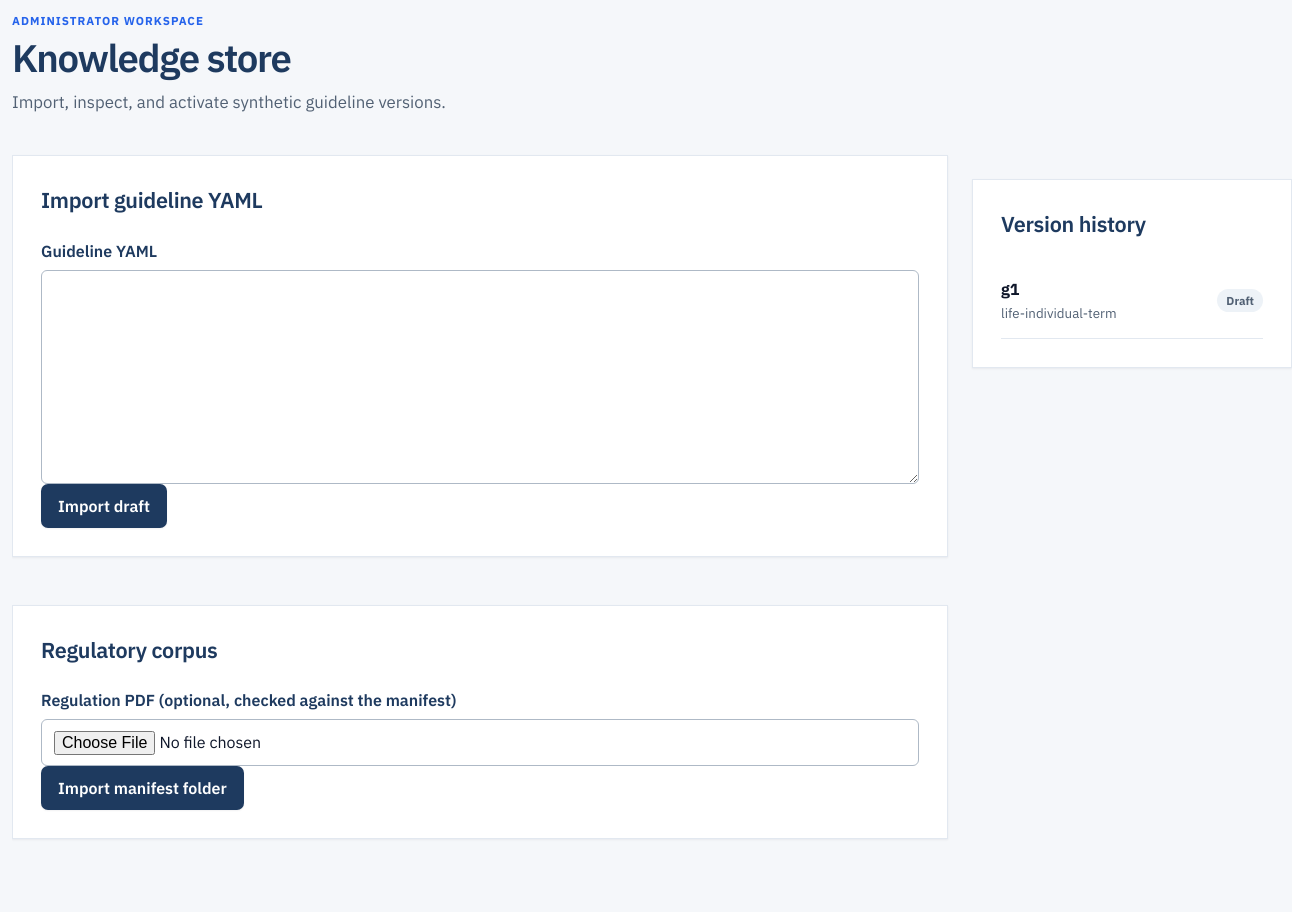
knowledge administration › imports YAML and announces the result
In the text box labelled "Guideline YAML": {"x": 480, "y": 377} [41,270,919,484], type "product_code: life-individual-term"
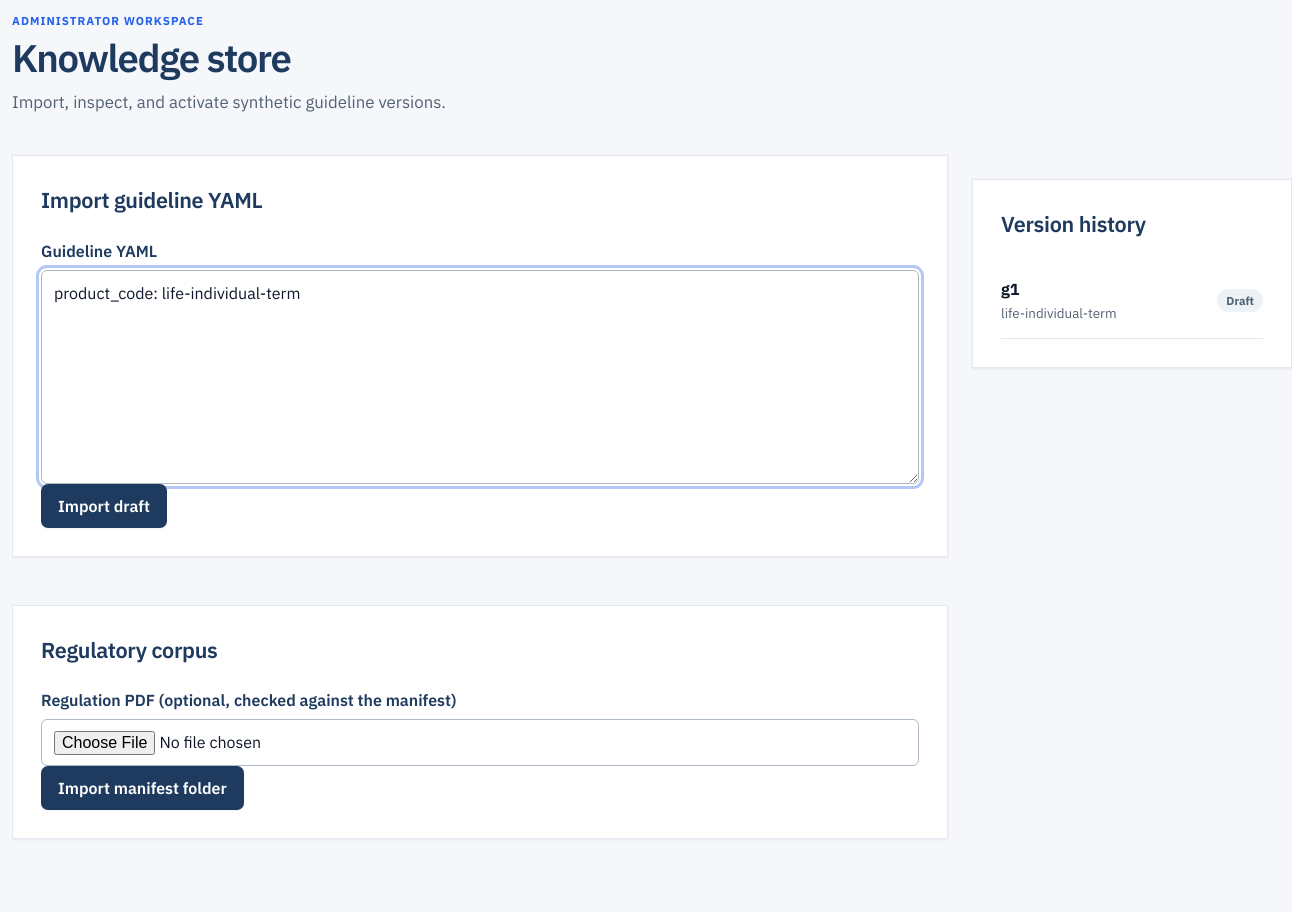
Click the button "Import draft": {"x": 104, "y": 506} [41,484,167,528]
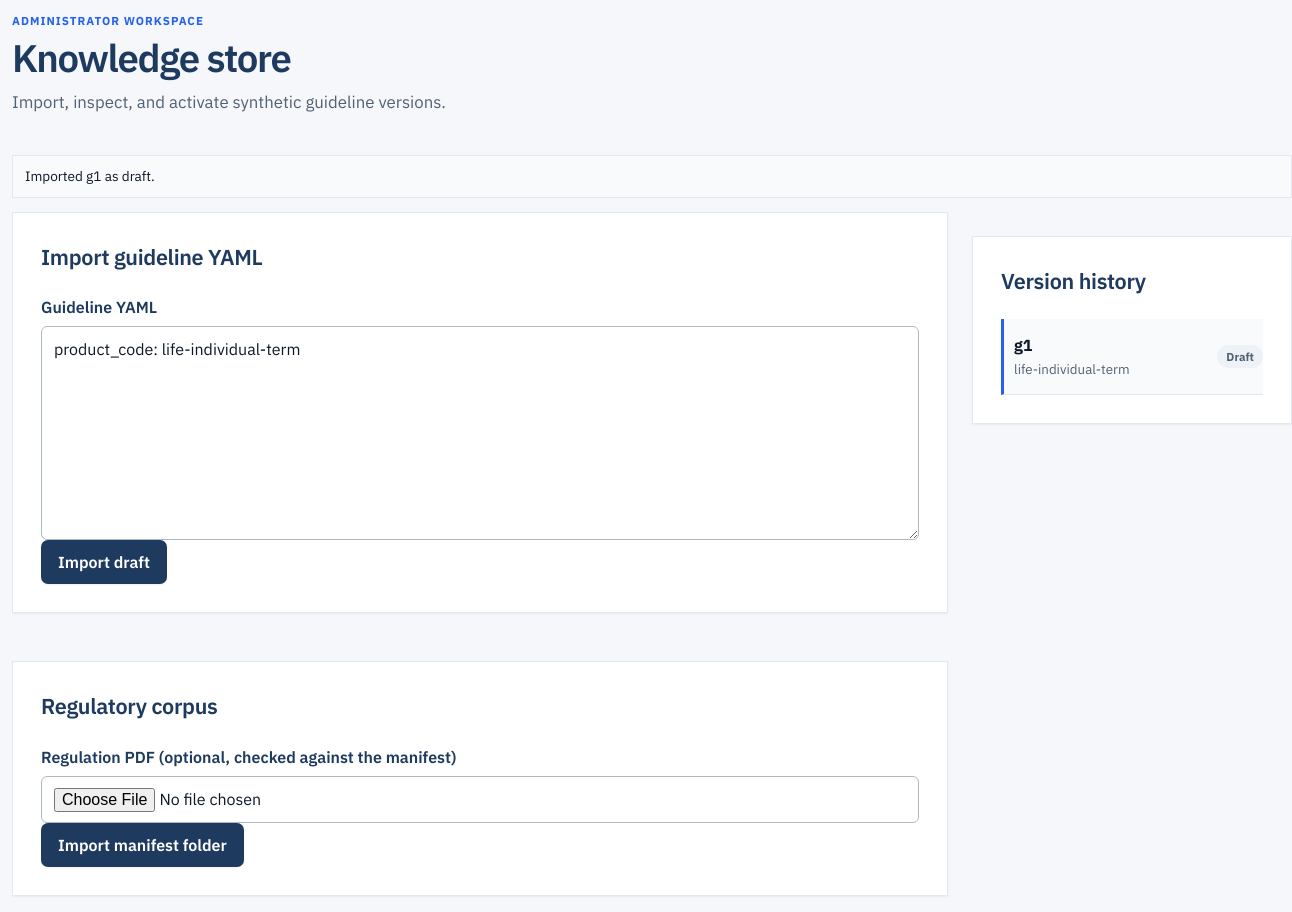
Check: the message reads "Imported g1 as draft.", box [25,168,155,186]
